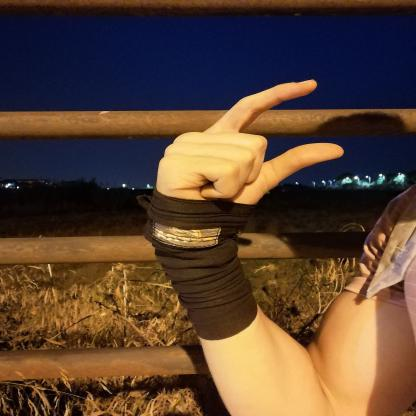DELL: (136, 70, 358, 242)
